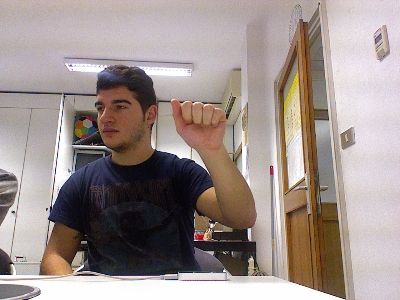石头: (169, 97, 226, 151)
